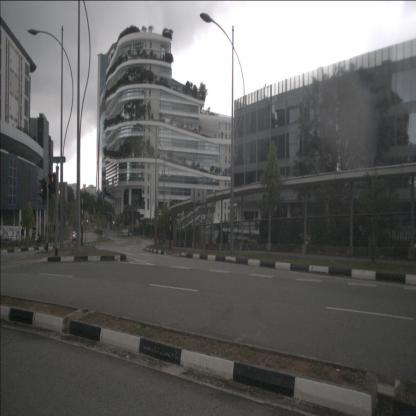human-pedestrian-adult: (21, 226, 24, 242)
vehicle-car: (72, 230, 80, 240), (122, 228, 129, 235)
vehicle-motorcycle: (36, 234, 42, 247)
